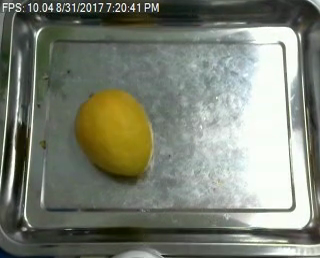Mango: (75, 86, 154, 178)
